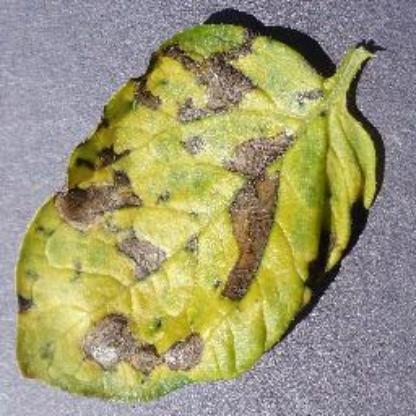Early-Blight: (15, 11, 416, 401)
